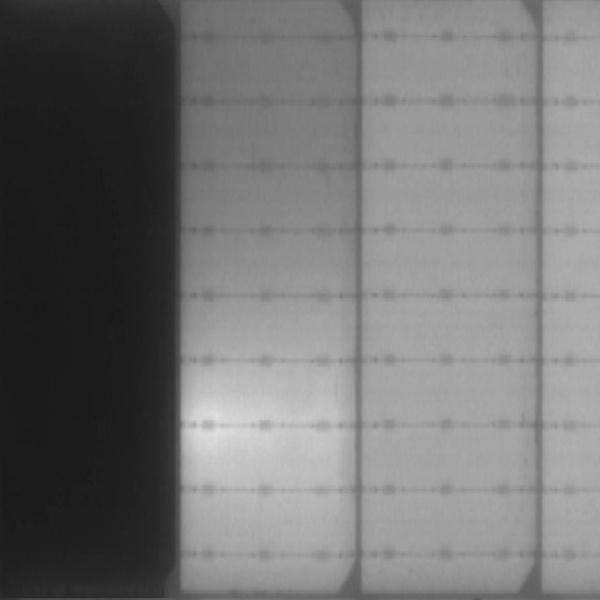no_electricity: (1, 1, 175, 593)
